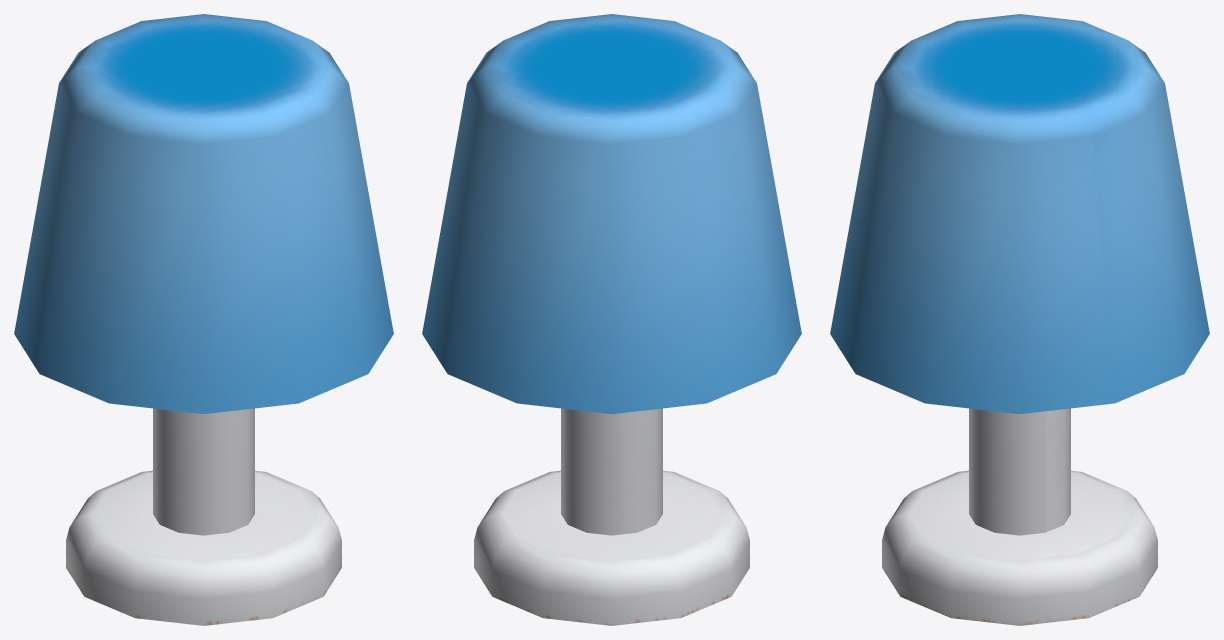
File: lamp.fbx
3 renders of one model, left to right at view 1: azimuth 30°, elevation 25°; view 2: azimuth 150°, elevation 25°; view 3: azimuth 270°, elevation 25°, orthographic.
Visible parts, largest first — view 1: BesideTable01; view 2: BesideTable01; view 3: BesideTable01.
Boxes of the visible parts, x1=… form: BesideTable01: x1=14, y1=14, x2=393, y2=625; BesideTable01: x1=422, y1=14, x2=801, y2=625; BesideTable01: x1=830, y1=14, x2=1209, y2=625.
Size of the model in its own units: 53.03 by 77.13 by 53.03.
